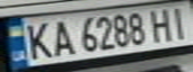2: (93, 11, 115, 52)
6: (75, 14, 100, 53)
8: (127, 9, 151, 46), (112, 11, 133, 48)
A: (48, 17, 75, 56)
H: (145, 6, 175, 42)
I: (163, 5, 193, 39)
K: (21, 19, 54, 61)
